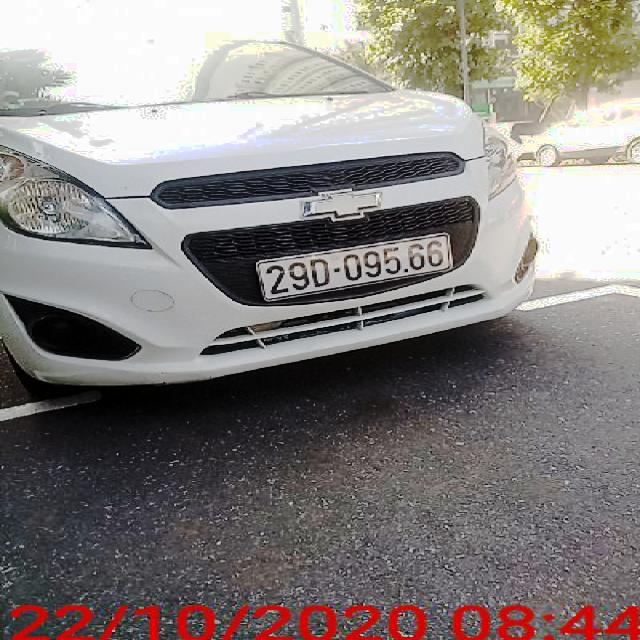license_plate: (266, 232, 451, 303)
